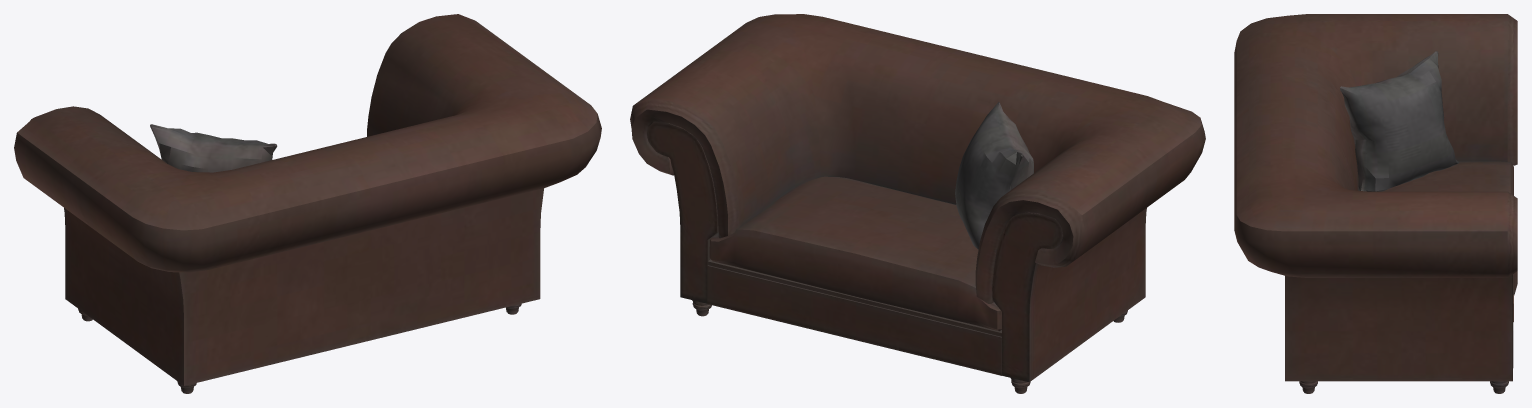
Rendered from settee-leather-2seat.glb.
3 views of the same model, side by side, from view 1: azimuth 30°, elevation 25°; view 2: azimuth 150°, elevation 25°; view 3: azimuth 270°, elevation 25° (orthographic). The views are drawn at different scales.
Parts seen in each view (by area): view 1: settee-leather-2seat; view 2: settee-leather-2seat; view 3: settee-leather-2seat.
Part boxes in pixels (left/top/right/bottom): settee-leather-2seat: left=14, top=14, right=601, bottom=393; settee-leather-2seat: left=630, top=14, right=1205, bottom=393; settee-leather-2seat: left=1234, top=14, right=1517, bottom=393.
Size of the model in its own units: 1.68 by 0.739 by 0.9249.
1 material, 1 textured.
